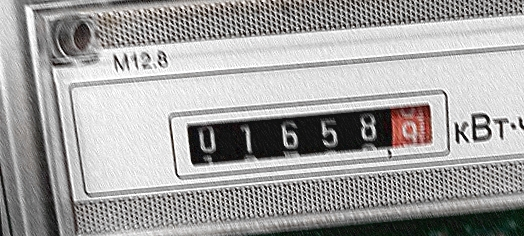0: (193, 121, 217, 154)
1: (238, 121, 253, 153)
5: (317, 115, 339, 148)
6: (277, 117, 300, 150)
8: (356, 109, 378, 143)
9: (397, 118, 417, 145)
screen: (159, 80, 456, 184)
